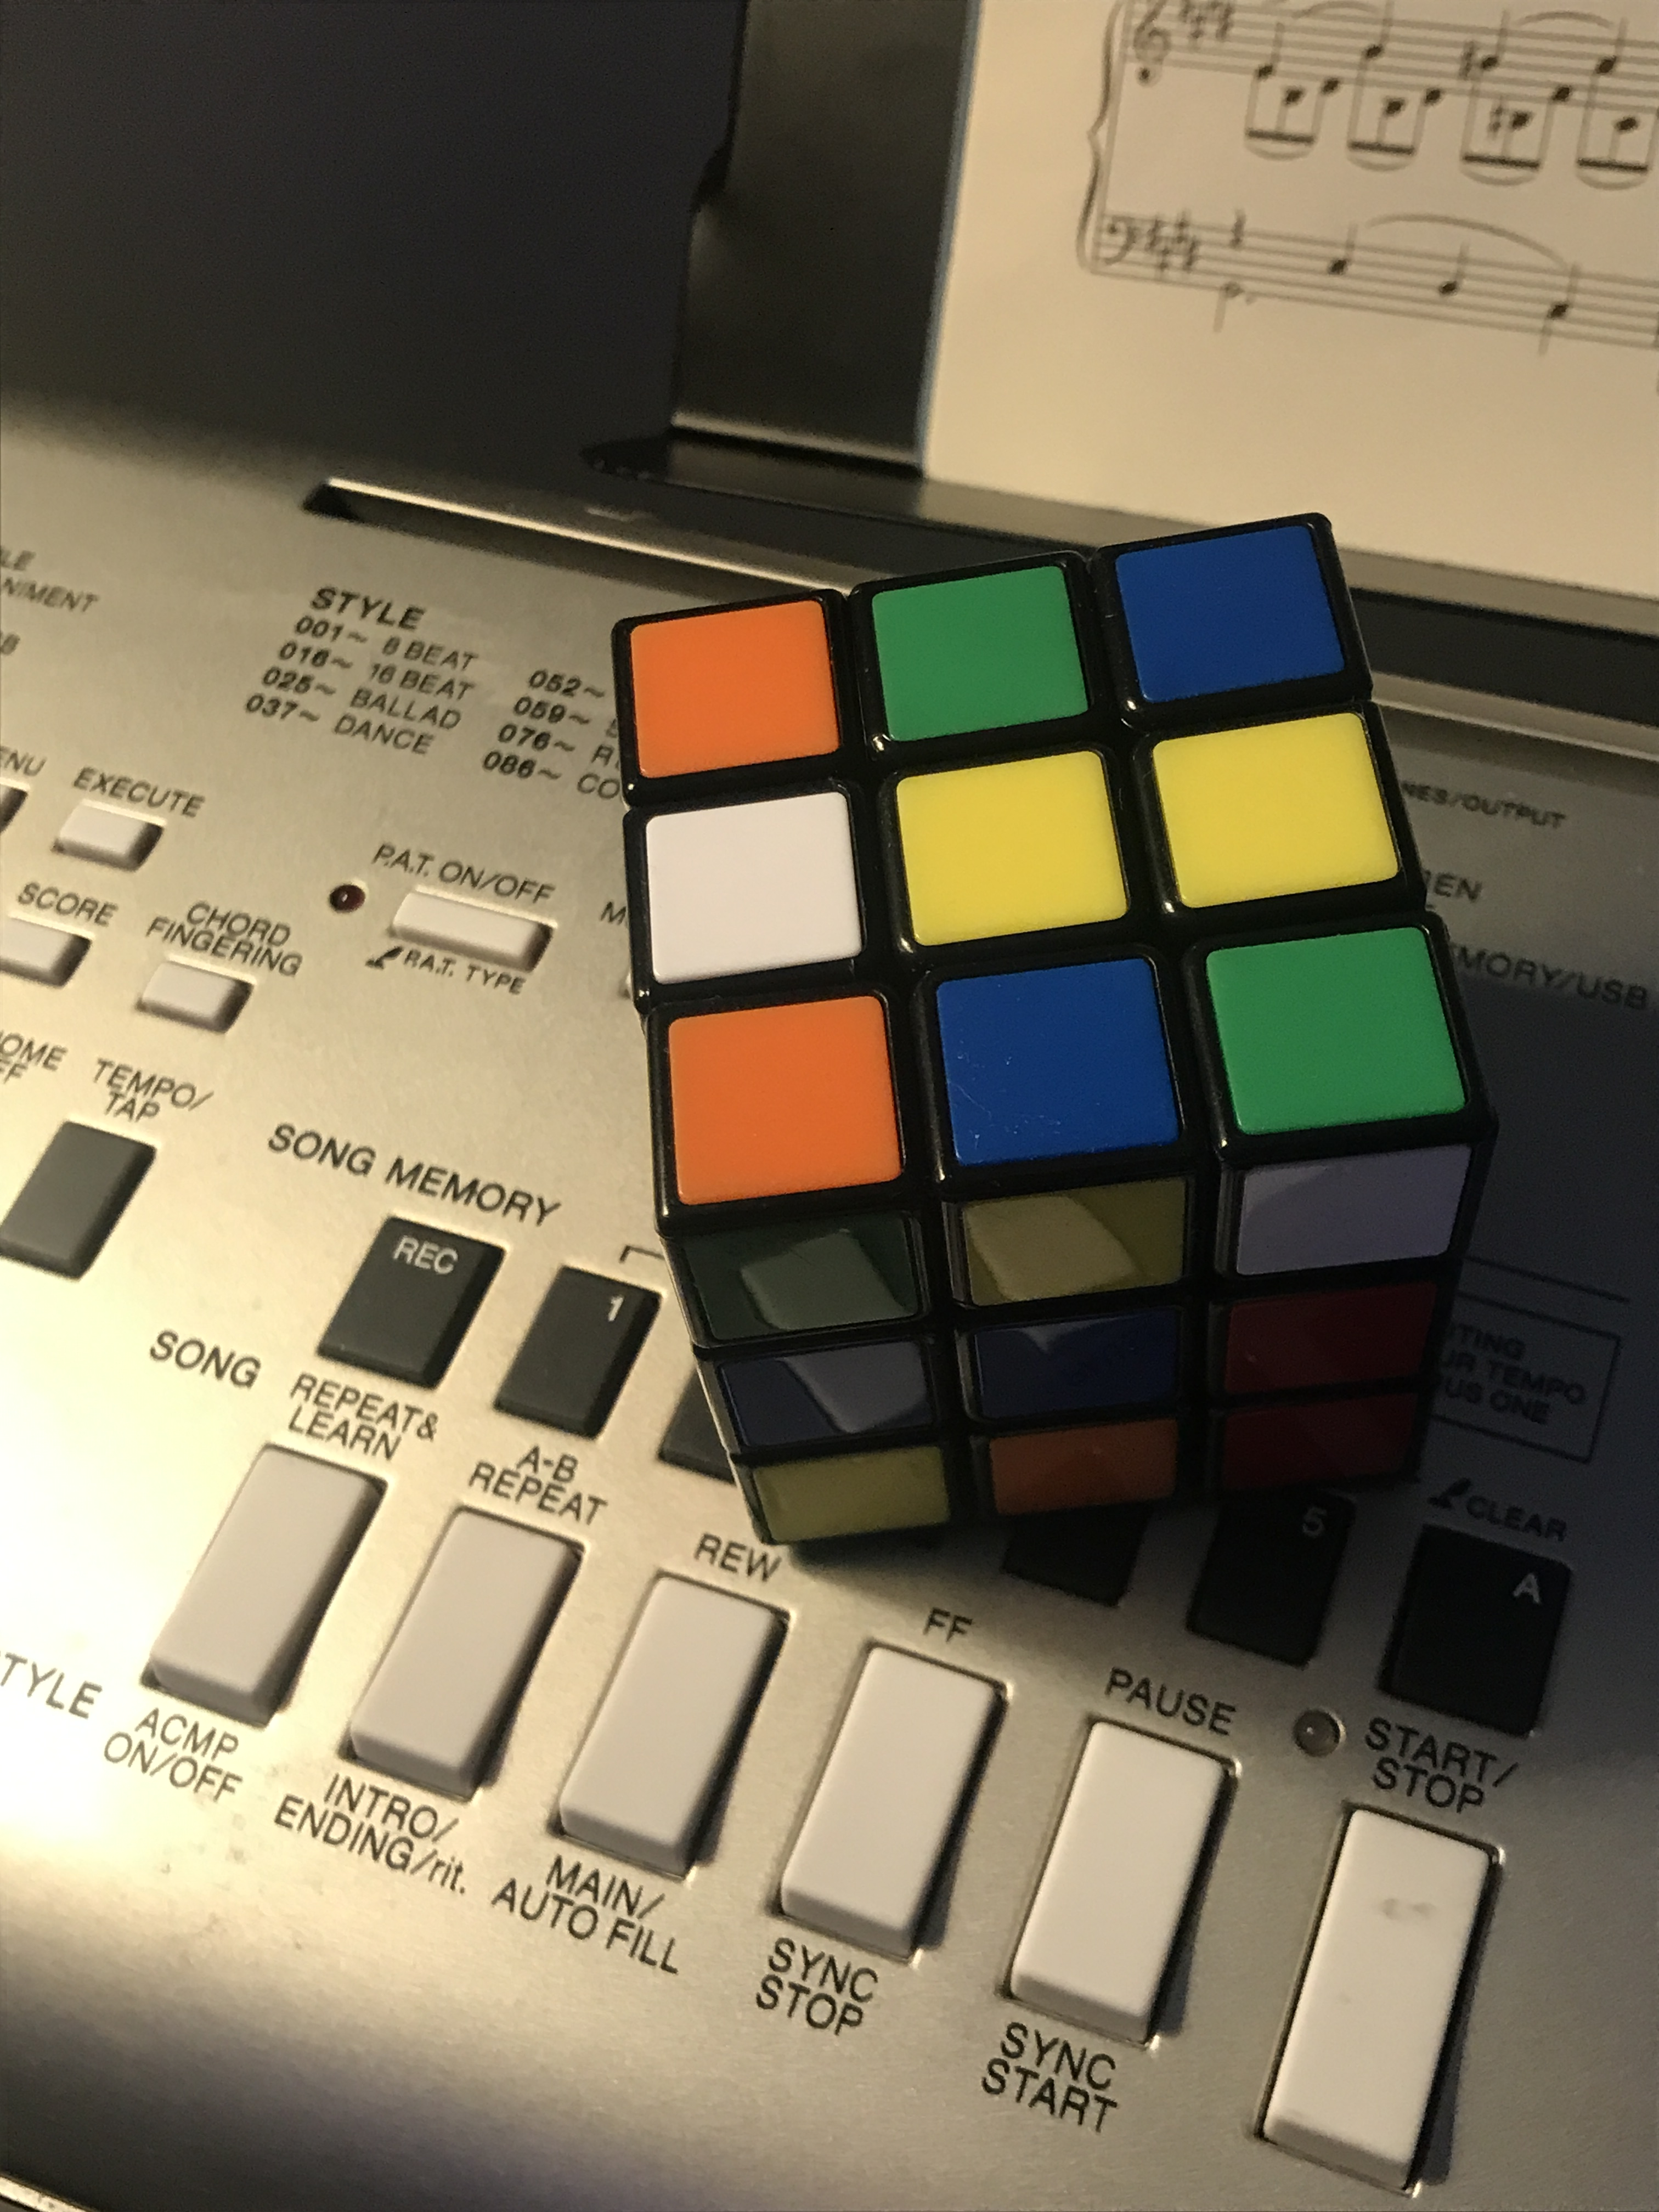rubiks: (615, 510, 1467, 1566)
